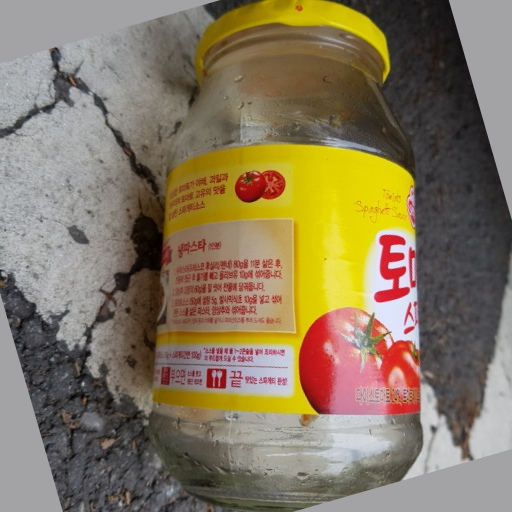Glass_5: (153, 1, 423, 504)
